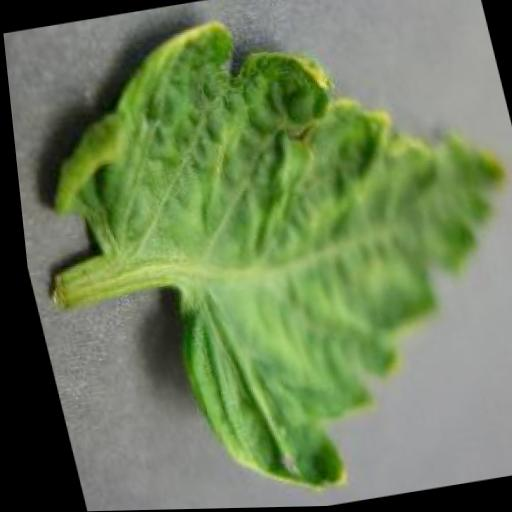Yellow Leaf Curl Virus: (11, 0, 512, 512)
